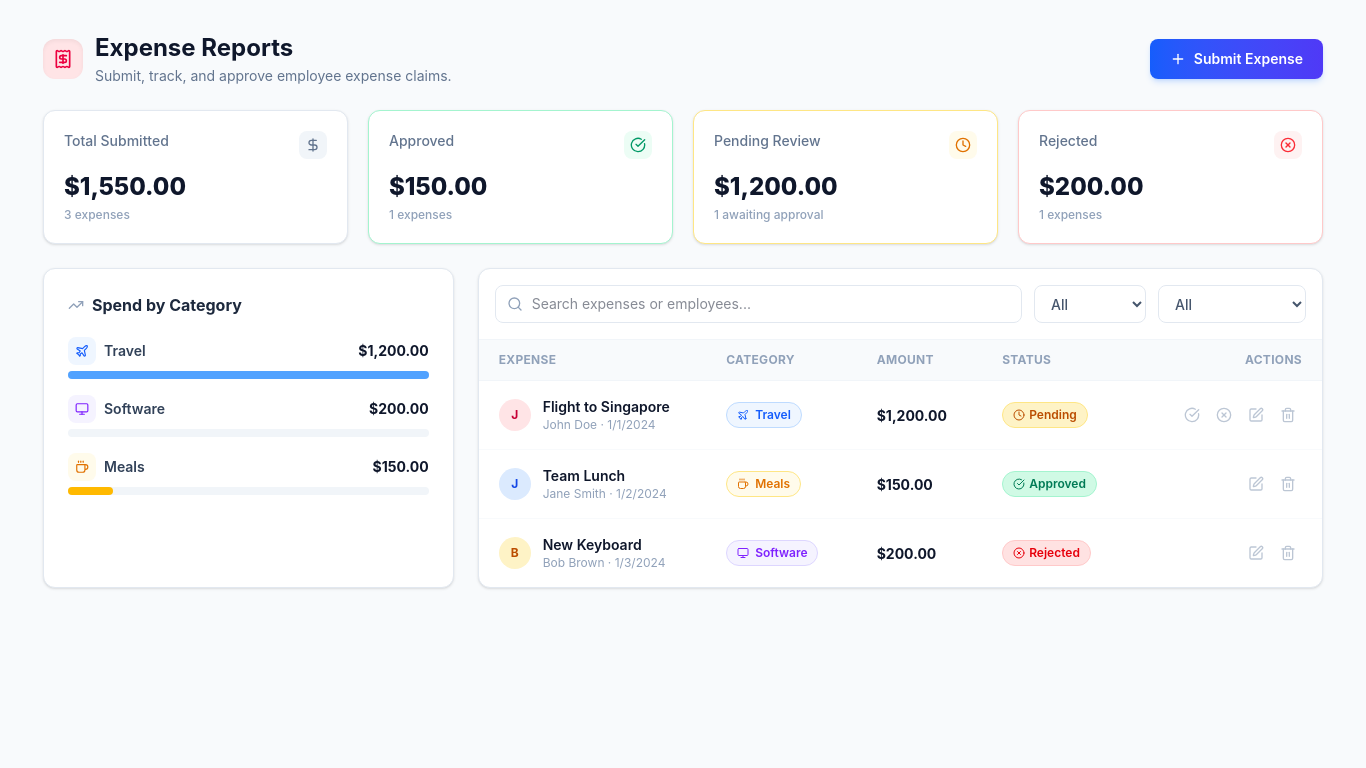
Expenses Page › filters expenses by status dropdown
Expected: the text "Flight to Singapore" is shown, [543,397,670,417]
Note: Find the status filter select
Select "Approved" in the 1st dropdown at (1090, 304), box [1034,285,1146,323]
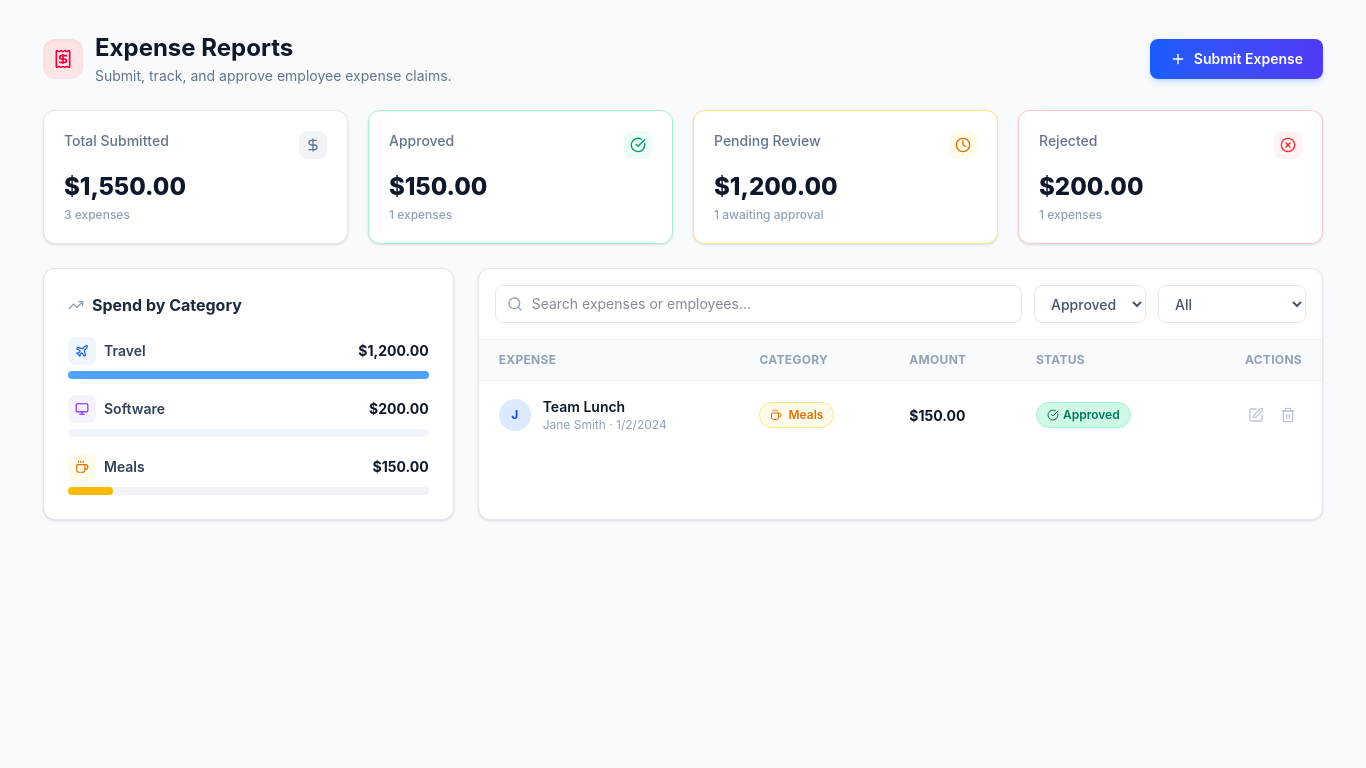
Expected: the text "Team Lunch" is shown, [543,398,625,415]
Expected: the text "Flight to Singapore" is gone
